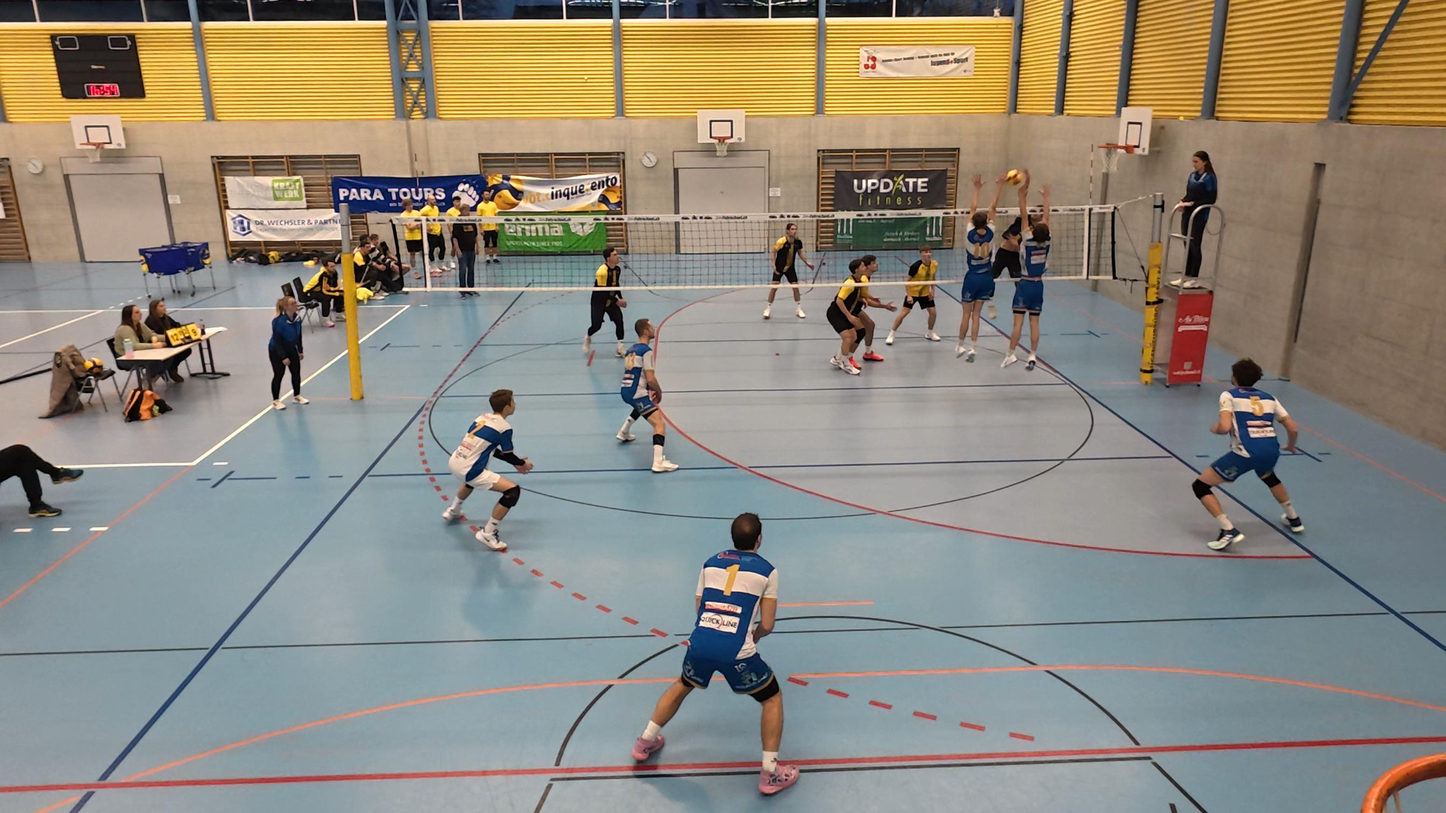Attack: (991, 165, 1042, 290)
Block: (1002, 183, 1058, 373), (949, 190, 1002, 362)
Player: (633, 512, 798, 793), (1194, 359, 1306, 549), (443, 389, 528, 551), (617, 319, 680, 472), (829, 257, 887, 370), (887, 248, 942, 344), (585, 254, 627, 365), (762, 223, 810, 320), (861, 253, 899, 323)
ball: (1004, 169, 1025, 185)
